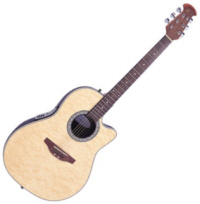guitar: (2, 3, 197, 201)
